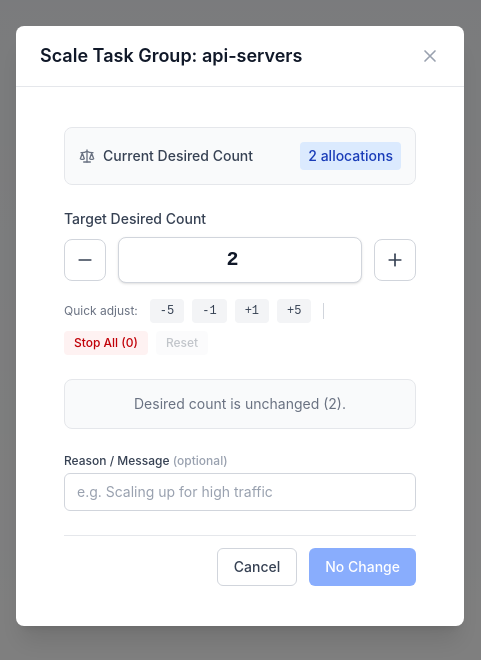
Test case: ScaleTaskGroupModal › increments and decrements count via stepper buttons
This screenshot has width=481, height=660.
// Increase from 2 to 3
What coordinates should you click on to do the following:
click the button named "Increase count"
I would click on:
 (395, 260)
Its box is [374,239,416,281].
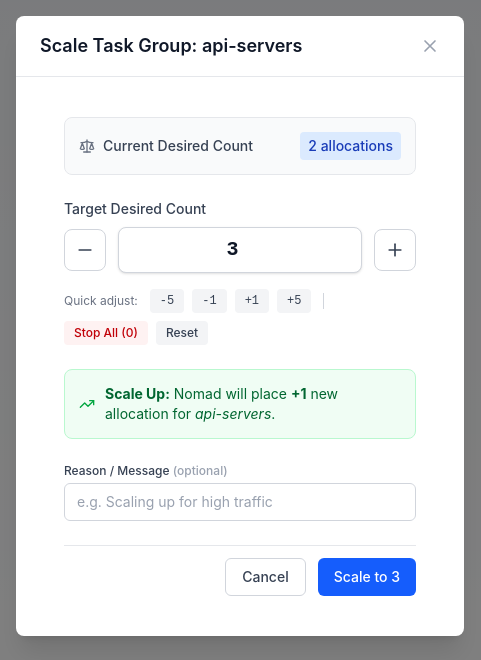
Now the text "Scale Up:" is shown, box [105,385,170,402]
Now the button "Scale to 3" is shown, box [318,558,416,596]
// Decrease from 3 to 2, then to 1
What coordinates should you click on to do the following:
click the button named "Decrease count"
I would click on:
 (85, 250)
Its box is [64,229,106,271].
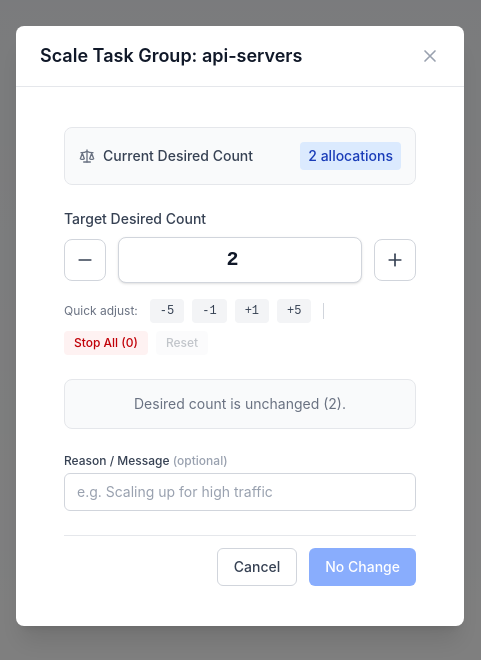
Now the text "Desired count is unchanged (2)." is shown, box [64,379,416,429]
What coordinates should you click on to do the following:
click the button named "Decrease count"
I would click on:
 (85, 260)
Its box is [64,239,106,281].
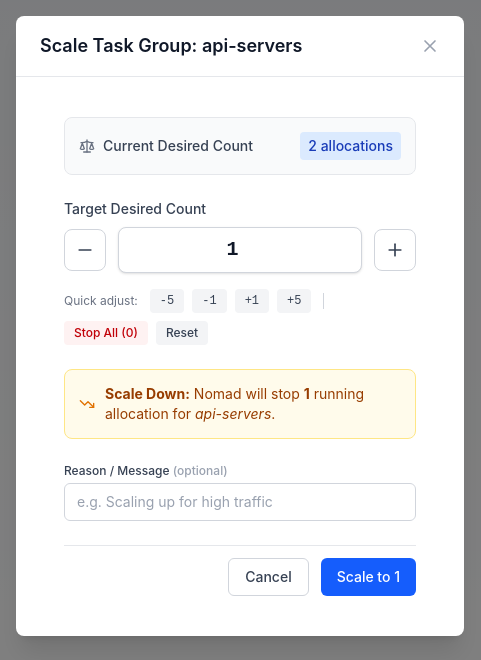
Now the text "Scale Down:" is shown, box [105,385,190,402]
Now the button "Scale to 1" is shown, box [321,558,416,596]
